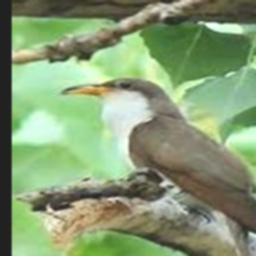Cuckoo: (59, 78, 256, 256)
